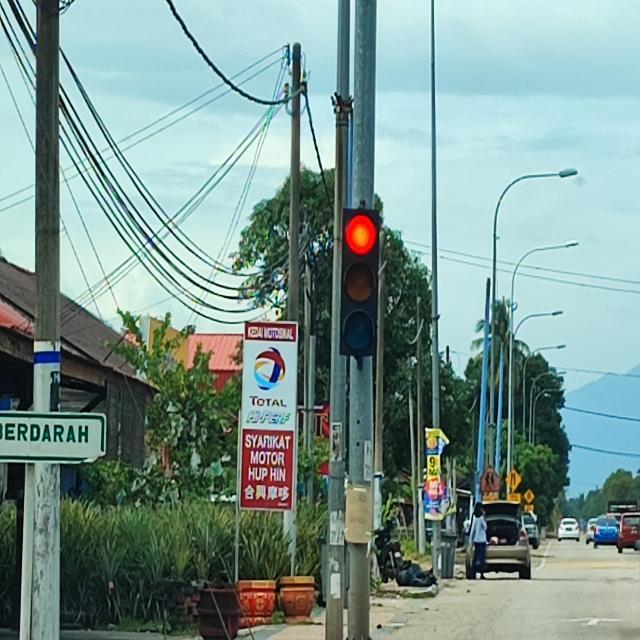red_light: (339, 209, 379, 356)
